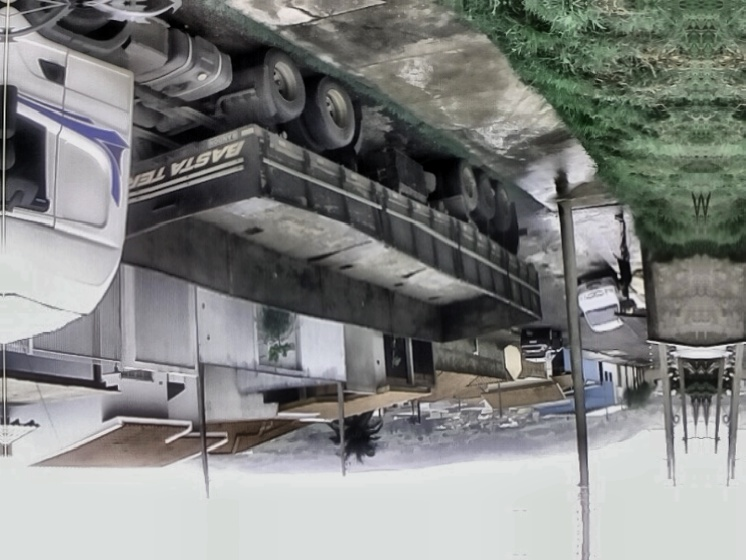person: (612, 214, 633, 297)
